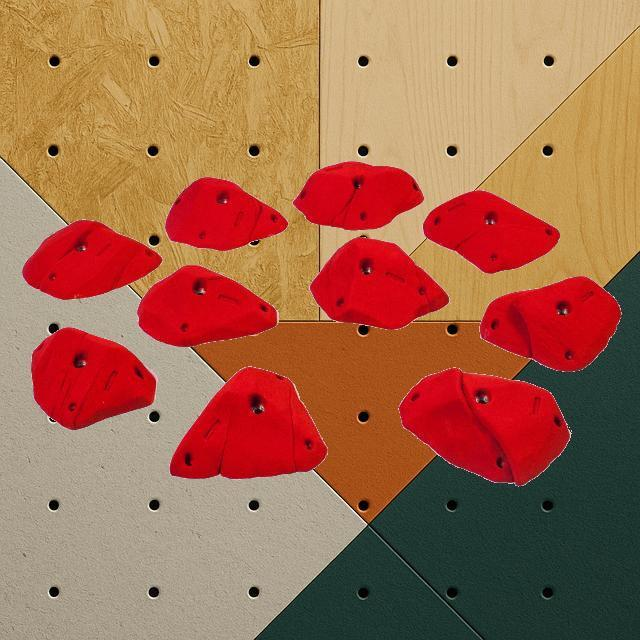Sloper: (399, 368, 571, 488), (170, 368, 328, 480), (476, 276, 622, 372), (308, 236, 449, 330), (30, 326, 156, 430), (136, 264, 278, 348), (421, 190, 561, 274), (21, 218, 161, 300), (164, 178, 290, 252), (293, 162, 423, 230)
